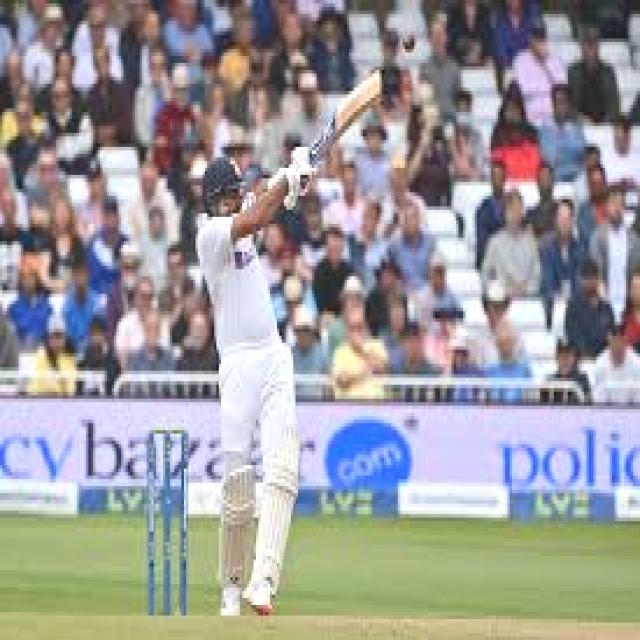toe: (375, 61, 384, 108)
